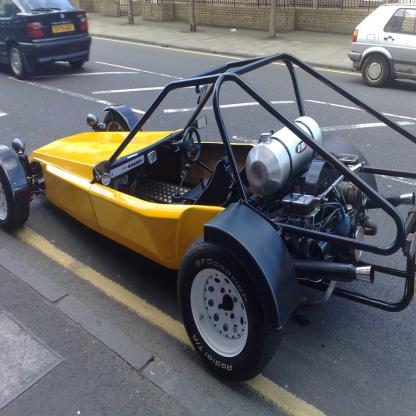Car: (1, 53, 416, 383), (1, 1, 92, 81), (348, 4, 416, 88)
